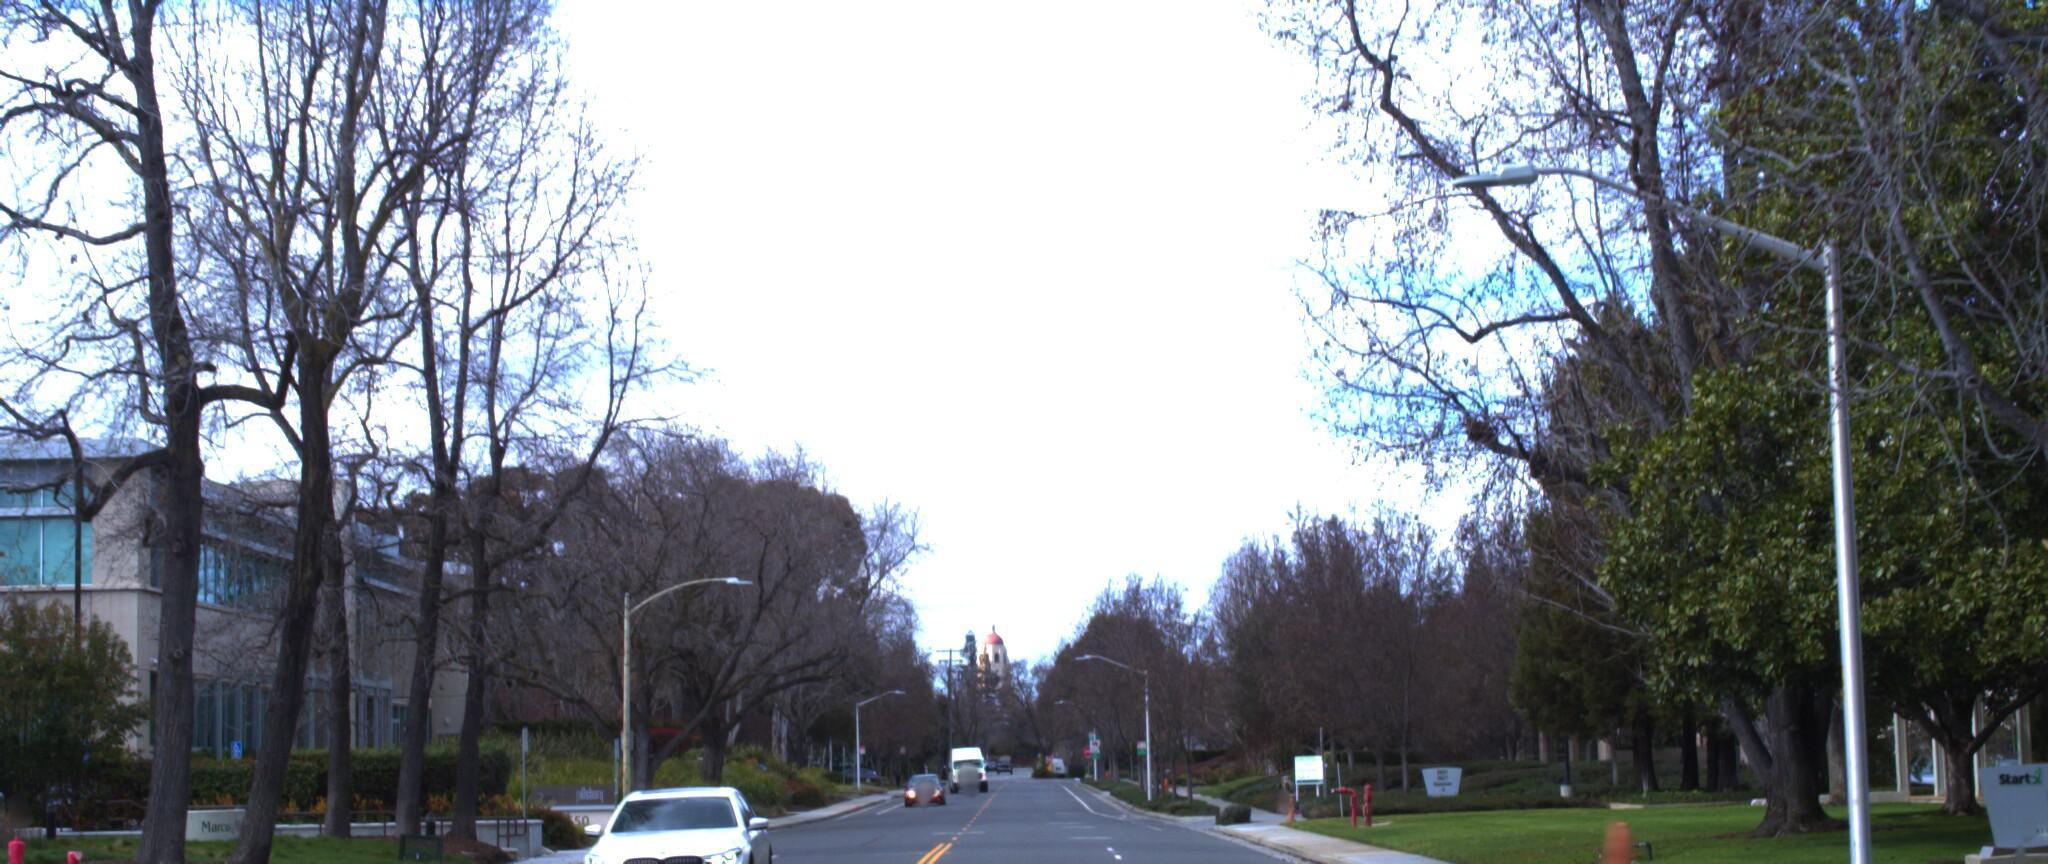car: (577, 779, 778, 864)
